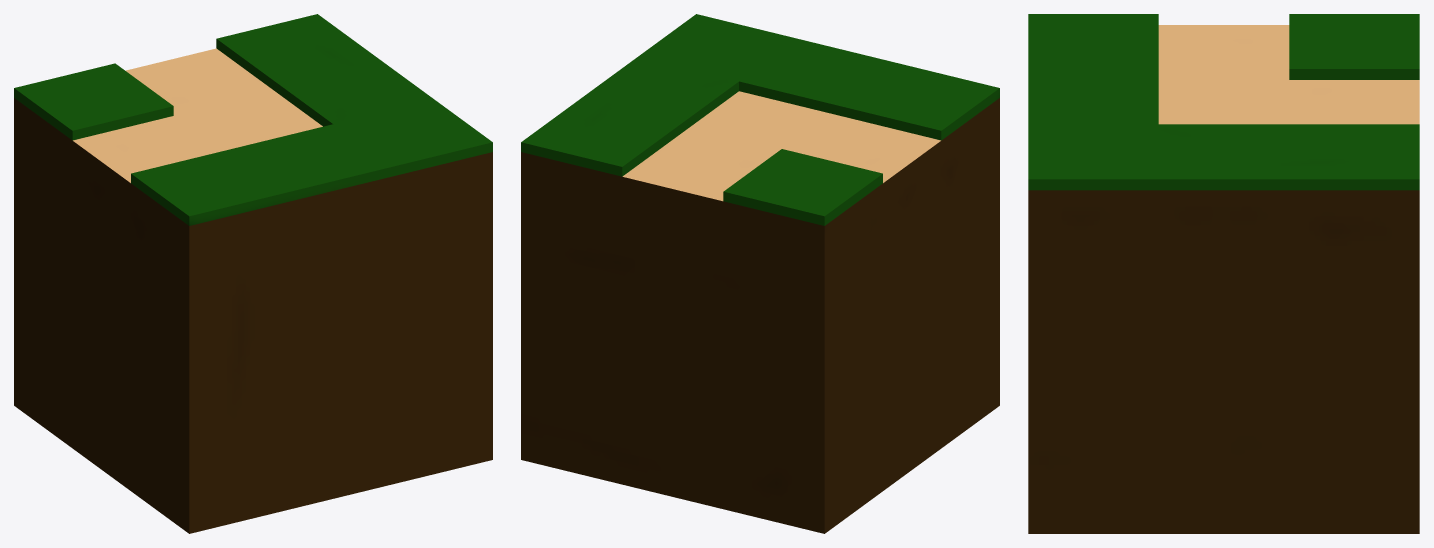
File: left.fbx
The picture shows the model from 3 angles, left to right: view 1: azimuth 30°, elevation 25°; view 2: azimuth 150°, elevation 25°; view 3: azimuth 270°, elevation 25°; orthographic projection. The views are drawn at different scales.
Visible parts, largest first — view 1: Cube.007; view 2: Cube.007; view 3: Cube.007.
Part boxes in pixels (x1,y1,x2,y2): Cube.007: (14, 14, 492, 533); Cube.007: (521, 14, 999, 533); Cube.007: (1028, 14, 1419, 533).
Size of the model in its own units: 3000 by 3000 by 3000.
